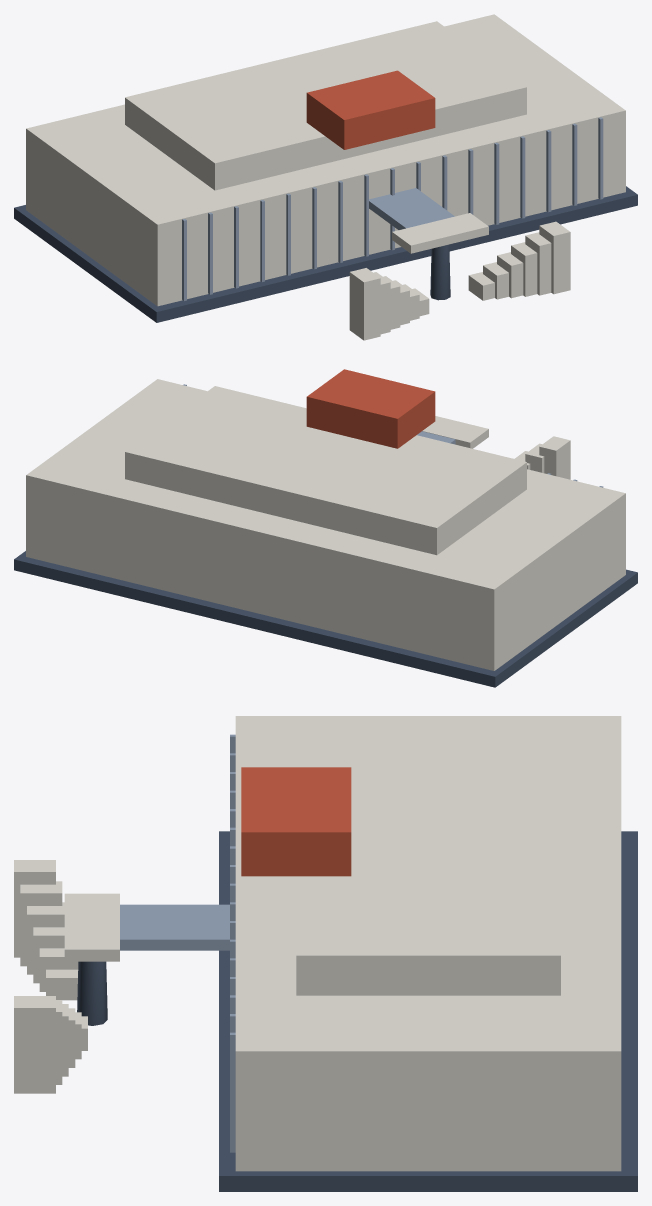
The model's file is lm_05_cho_da_lat_hoa_binh_base.glb.
The picture shows the model from 3 angles, top to bottom: view 1: azimuth 30°, elevation 25°; view 2: azimuth 150°, elevation 25°; view 3: azimuth 270°, elevation 25°; orthographic projection. The views are drawn at different scales.
Parts seen in each view (by area): view 1: market_hall_main, market_upper_tier, market_plinth, market_central_tower, y_landing, skybridge_deck, y_stair_l_5, y_stair_r_5, y_support_pier, y_stair_r_4, y_stair_r_3, y_stair_r_2 (+9 smaller); view 2: market_hall_main, market_upper_tier, market_plinth, market_central_tower, y_landing, y_stair_l_5; view 3: market_hall_main, market_upper_tier, market_plinth, market_central_tower, skybridge_deck, y_stair_r_5, y_landing, y_support_pier, y_stair_l_5, y_stair_l_4, y_stair_l_3, y_stair_l_0 (+3 smaller).
Boxes of the visible parts, x1=… form: market_hall_main: x1=26, y1=14, x2=625, y2=306; market_upper_tier: x1=125, y1=21, x2=526, y2=190; market_plinth: x1=14, y1=186, x2=637, y2=322; market_central_tower: x1=306, y1=70, x2=435, y2=149; y_landing: x1=392, y1=213, x2=488, y2=253; skybridge_deck: x1=369, y1=188, x2=454, y2=229; y_stair_l_5: x1=349, y1=268, x2=380, y2=340; y_stair_r_5: x1=539, y1=221, x2=570, y2=294; y_support_pier: x1=430, y1=244, x2=450, y2=300; y_stair_r_4: x1=525, y1=232, x2=551, y2=295; y_stair_r_3: x1=511, y1=242, x2=537, y2=296; y_stair_r_2: x1=497, y1=252, x2=523, y2=298; market_hall_main: x1=26, y1=379, x2=625, y2=670; market_upper_tier: x1=125, y1=386, x2=526, y2=555; market_plinth: x1=14, y1=551, x2=637, y2=687; market_central_tower: x1=306, y1=369, x2=435, y2=448; y_landing: x1=422, y1=416, x2=488, y2=448; y_stair_l_5: x1=539, y1=436, x2=570, y2=479; market_hall_main: x1=235, y1=716, x2=621, y2=1171; market_upper_tier: x1=296, y1=732, x2=560, y2=995; market_plinth: x1=219, y1=831, x2=637, y2=1191; market_central_tower: x1=241, y1=767, x2=351, y2=876; skybridge_deck: x1=120, y1=904, x2=229, y2=950; y_stair_r_5: x1=14, y1=996, x2=55, y2=1093; y_landing: x1=64, y1=893, x2=119, y2=961; y_support_pier: x1=77, y1=961, x2=107, y2=1025; y_stair_l_5: x1=14, y1=860, x2=55, y2=957; y_stair_l_4: x1=20, y1=881, x2=62, y2=966; y_stair_l_3: x1=27, y1=902, x2=64, y2=974; y_stair_l_0: x1=46, y1=969, x2=78, y2=1000.
Size of the model in its own units: 74 by 22 by 56.61.
